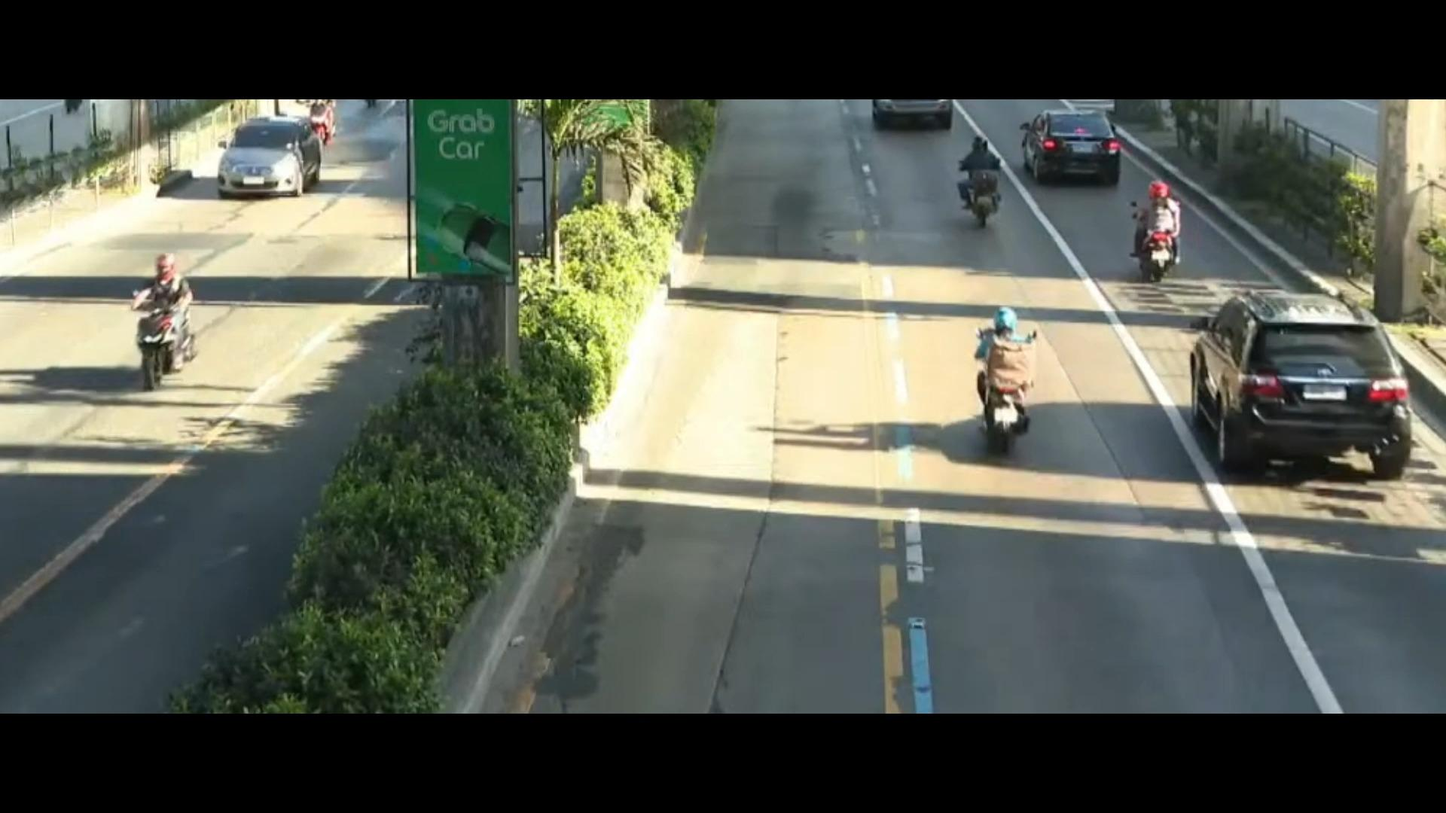Motorcycle: (96, 247, 213, 411), (959, 292, 1045, 458), (911, 138, 1028, 250), (1114, 187, 1198, 286), (298, 94, 354, 145)
SUV: (1162, 279, 1425, 499)
Sedan: (989, 85, 1138, 196), (193, 117, 336, 220)
